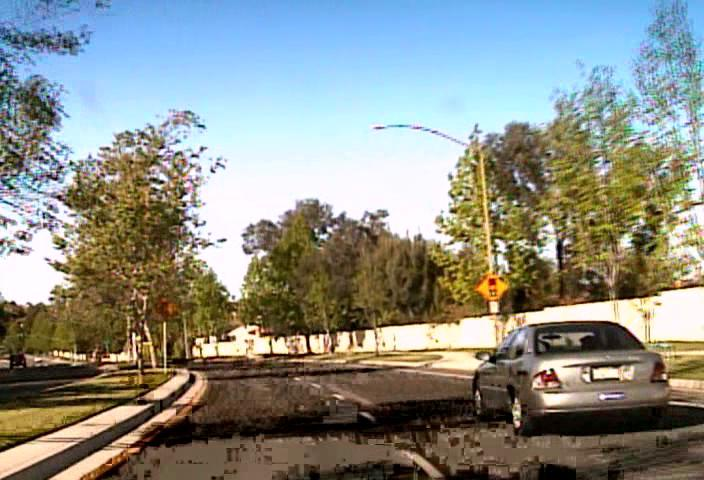signalAhead: (474, 272, 509, 302)
